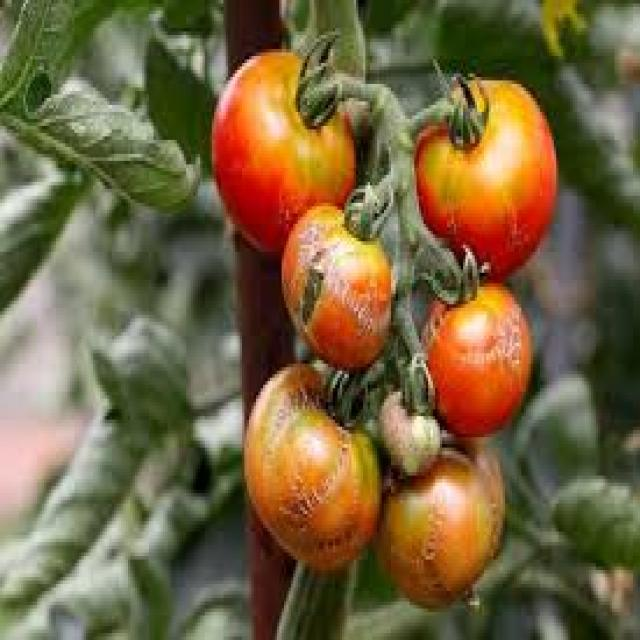organic waste: (0, 0, 195, 206), (205, 32, 358, 255), (410, 66, 556, 273), (242, 357, 379, 570), (370, 427, 503, 612), (277, 182, 396, 360), (419, 255, 528, 430), (375, 353, 440, 476), (535, 0, 586, 52), (614, 46, 638, 88)
